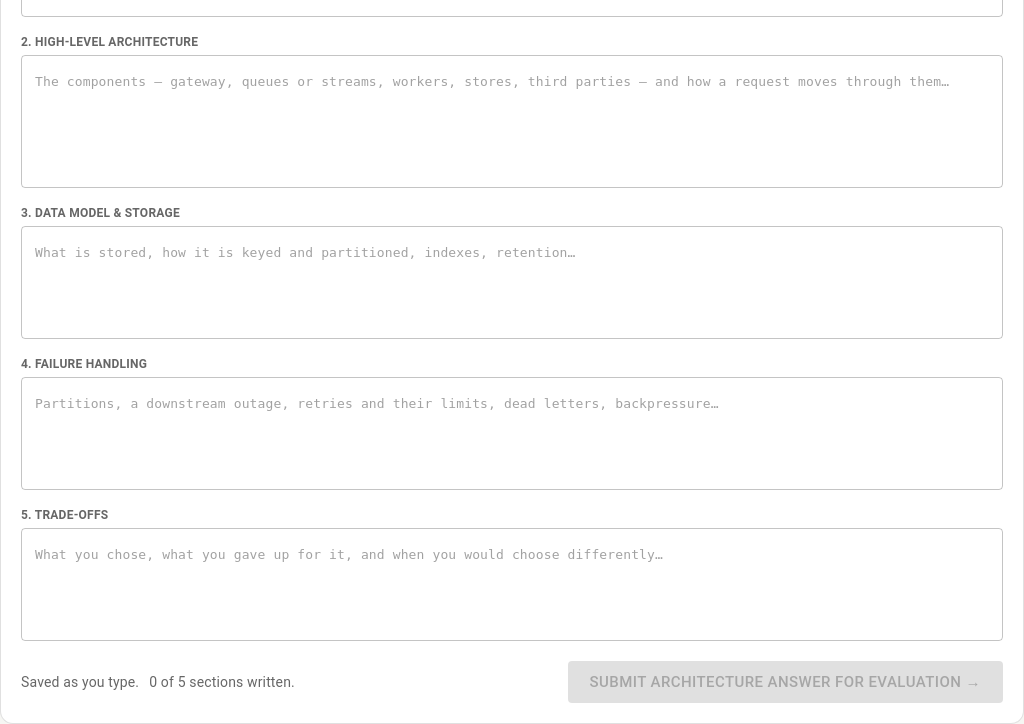
Scenario: SystemDesignAnswerPage › sections › saves every section it is given, and counts what is written
The image size is (1024, 724).
(page scrolled)
Type "Retry with backoff." into the text box labelled "4. Failure handling" at point(512, 434), box top-left (35, 394), bottom-right (989, 474)
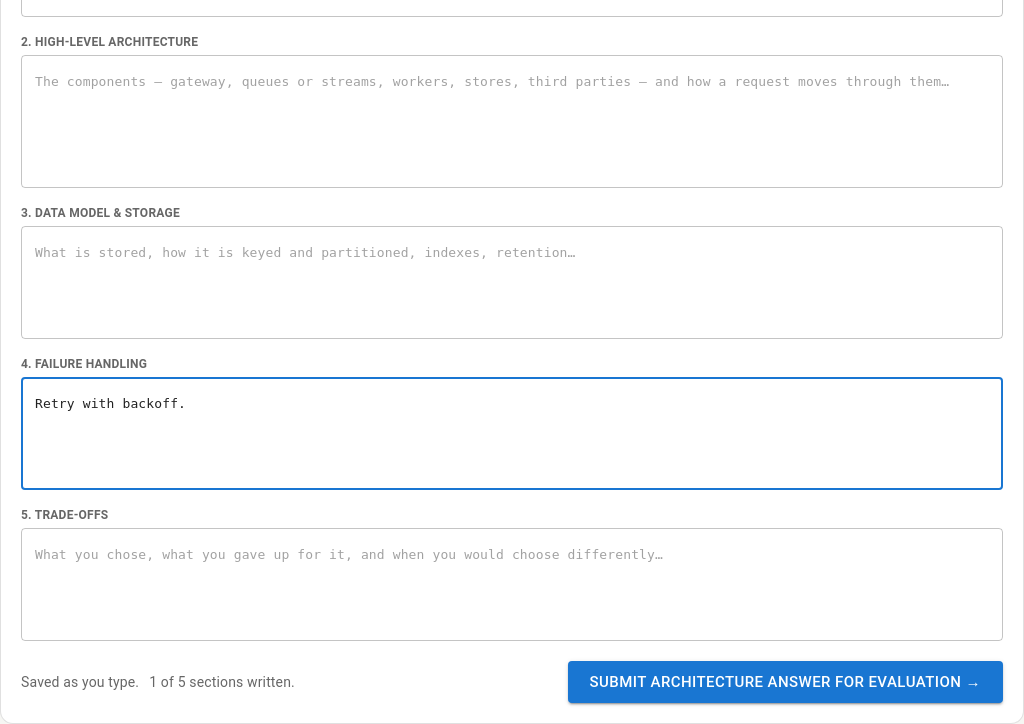
Type "Latency over cost." into the text box labelled "5. Trade-offs" at point(512, 585), box top-left (35, 545), bottom-right (989, 625)
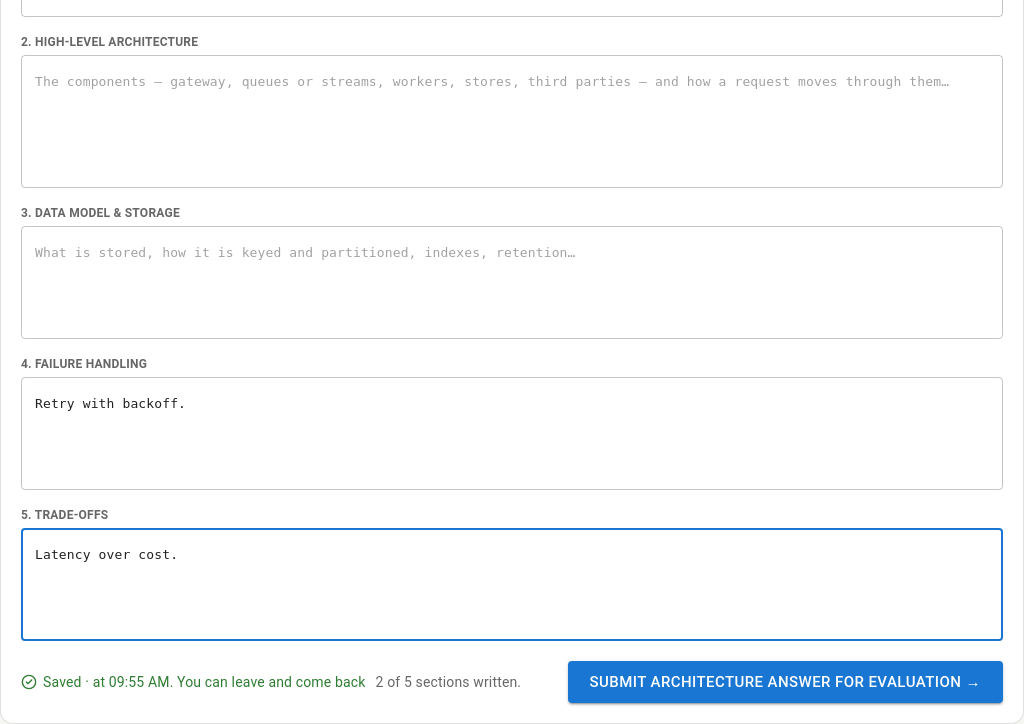
Result: the text "2 of 5 sections written." is shown at top-left (376, 672), bottom-right (521, 692)
